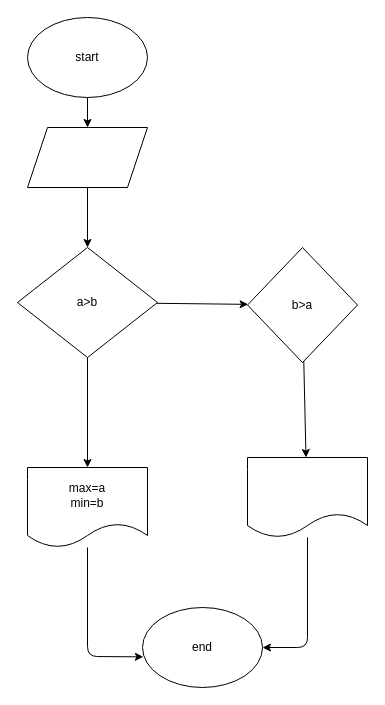
The diagram is 385 pixels wide and 705 high, and some of its shapes have lost their labels. Each missing label, with the centre of its shape:
"a,b" goes at (x=87, y=157).
"max=b min=a" goes at (x=307, y=497).
